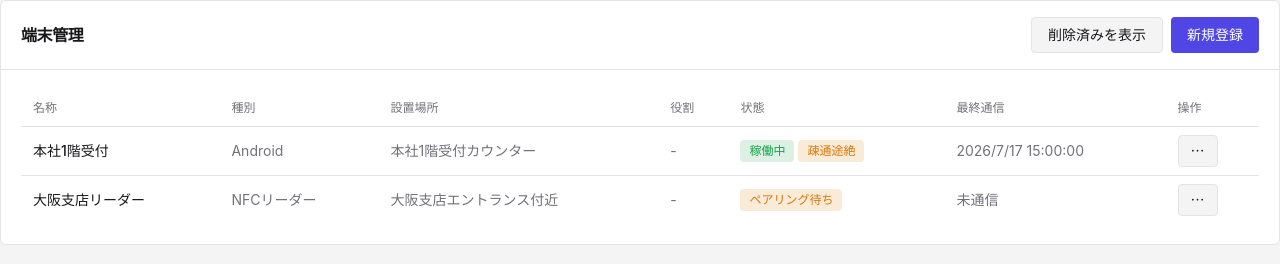
Test: DeviceListPage › puts detail, revoke, and delete behind the row 「⋯」 menu
Expected: the text "本社1階受付" is shown, [21,126,220,175]
Expected: the button "詳細" is not shown
Click the button named "本社1階受付の操作" at [1198, 150], box [1178,134,1218,166]
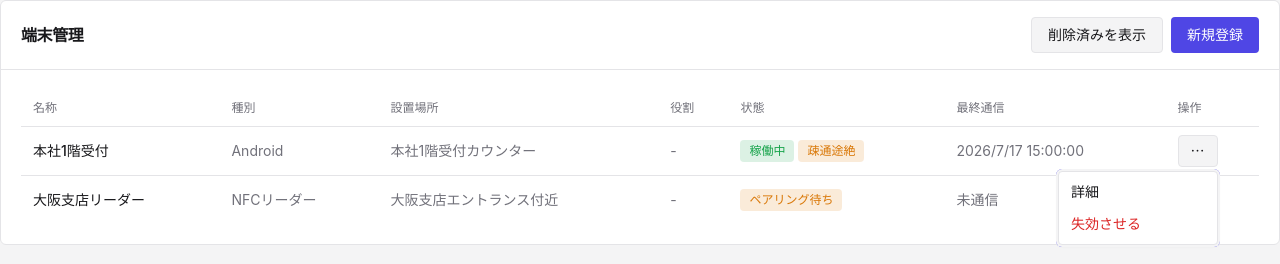
Now the menu item "詳細" is shown, box [1071,183,1099,200]
Now the menu item "失効させる" is shown, box [1071,215,1141,232]
